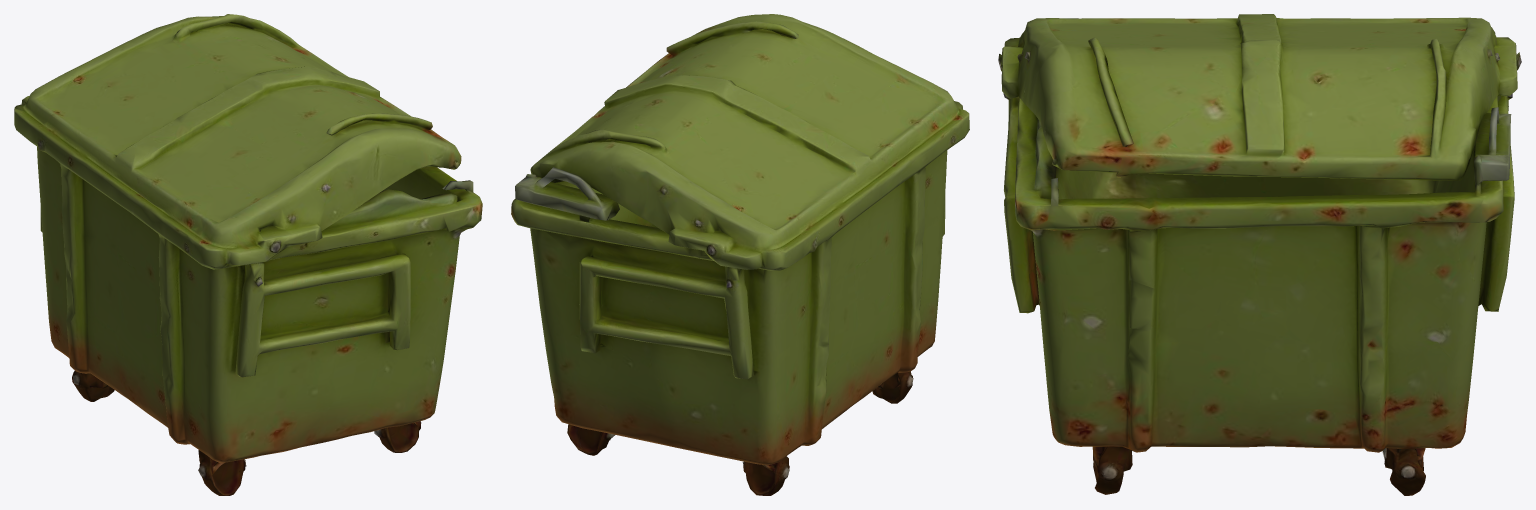
The model's file is dumpster.glb.
The picture shows the model from 3 angles, left to right: view 1: azimuth 30°, elevation 25°; view 2: azimuth 150°, elevation 25°; view 3: azimuth 270°, elevation 25°; orthographic projection. The views are drawn at different scales.
Visible parts, largest first — view 1: tripo_node_fdf5daa8-f716-402a-80d5-56e512b62606; view 2: tripo_node_fdf5daa8-f716-402a-80d5-56e512b62606; view 3: tripo_node_fdf5daa8-f716-402a-80d5-56e512b62606.
Part boxes in pixels (x1,y1,x2,y2): tripo_node_fdf5daa8-f716-402a-80d5-56e512b62606: (14, 14, 482, 495); tripo_node_fdf5daa8-f716-402a-80d5-56e512b62606: (511, 14, 969, 495); tripo_node_fdf5daa8-f716-402a-80d5-56e512b62606: (998, 14, 1521, 495).
Size of the model in its own units: 1.01 by 1.2 by 1.36.
1 material, 1 textured.
